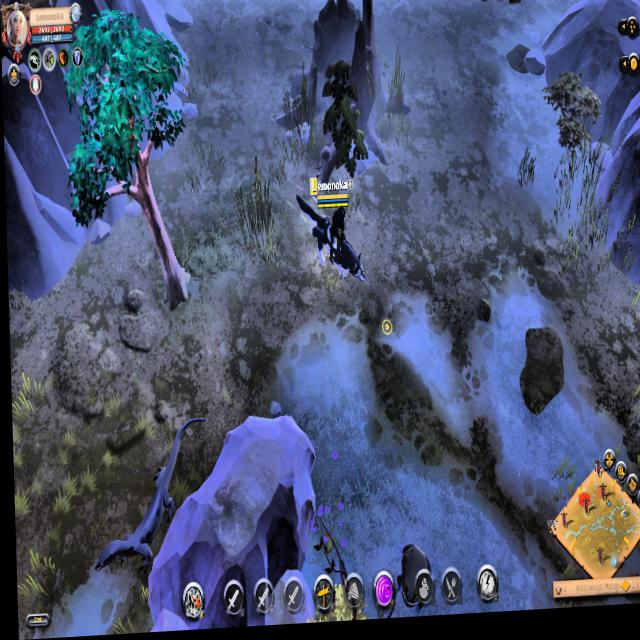wood tier 3: (82, 5, 190, 225)
